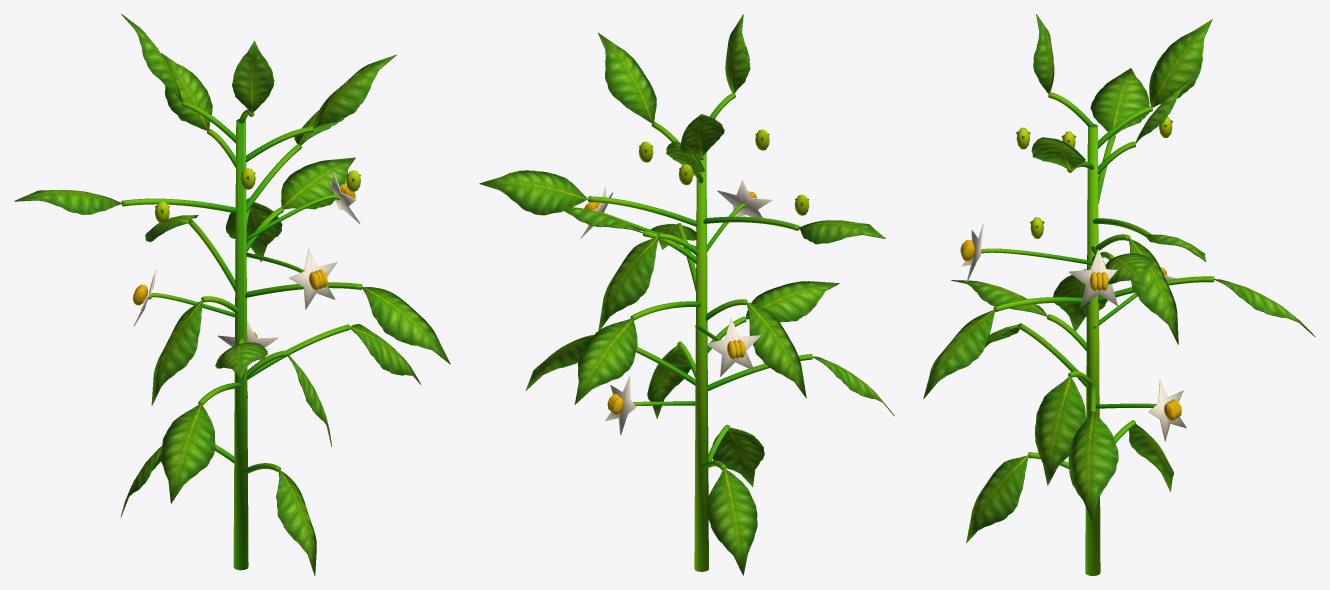
The model's file is NP_ChiliPepper_Flowering.fbx.
3 views of the same model, side by side, from view 1: azimuth 30°, elevation 25°; view 2: azimuth 150°, elevation 25°; view 3: azimuth 270°, elevation 25° (orthographic). The views are drawn at different scales.
Visible parts, largest first — view 1: NP_ChiliPepper_Flowering; view 2: NP_ChiliPepper_Flowering; view 3: NP_ChiliPepper_Flowering.
Part boxes in pixels (x1=…): NP_ChiliPepper_Flowering: x1=14, y1=14, x2=450, y2=575; NP_ChiliPepper_Flowering: x1=479, y1=14, x2=894, y2=575; NP_ChiliPepper_Flowering: x1=923, y1=14, x2=1315, y2=575.
Size of the model in its own units: 82.17 by 111 by 71.86.
